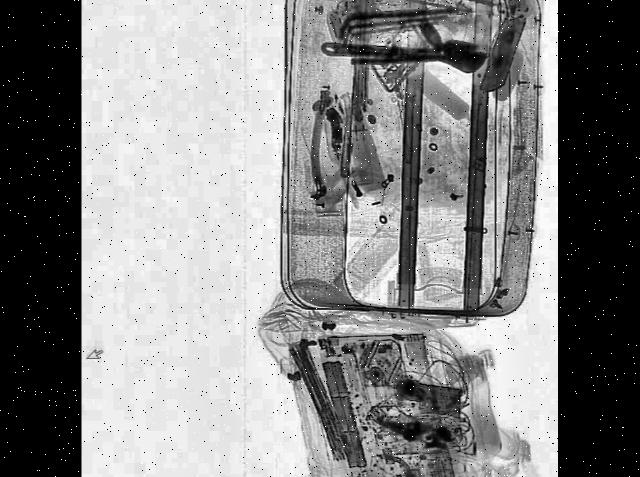Wrench: (320, 31, 487, 74)
